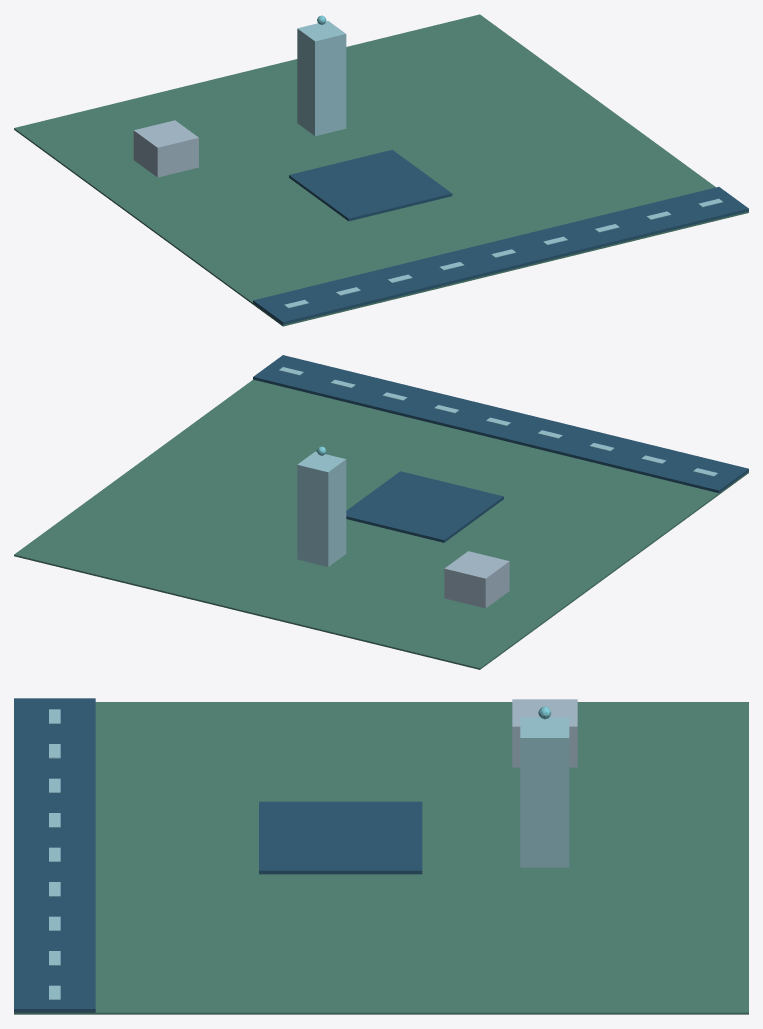
Rendered from stage_03.glb.
3 renders of one model, top to bottom at view 1: azimuth 30°, elevation 25°; view 2: azimuth 150°, elevation 25°; view 3: azimuth 270°, elevation 25°, orthographic. The views are drawn at different scales.
Parts seen in each view (by area): view 1: geometry_0; view 2: geometry_0; view 3: geometry_0.
Boxes of the visible parts, left/top/right/bottom form: geometry_0: left=14, top=14, right=748, bottom=326; geometry_0: left=14, top=355, right=748, bottom=669; geometry_0: left=14, top=698, right=748, bottom=1014.
Size of the model in its own units: 9 by 2.06 by 9.
